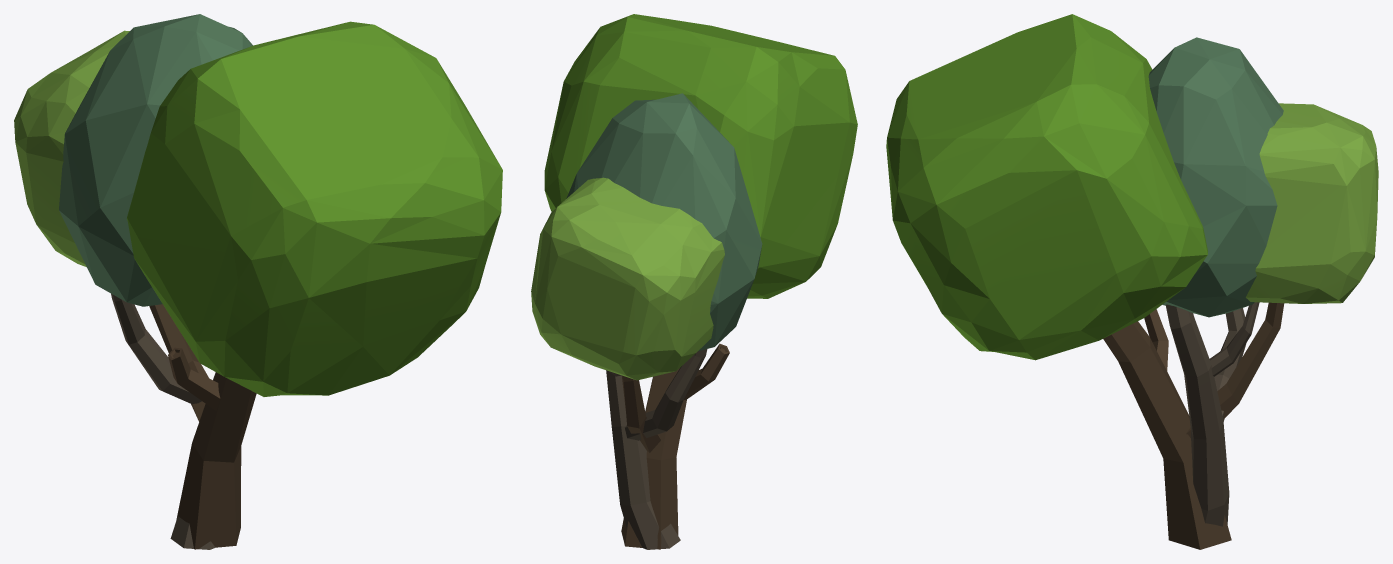
Rendered from Tree15.glb.
The picture shows the model from 3 angles, left to right: view 1: azimuth 30°, elevation 25°; view 2: azimuth 150°, elevation 25°; view 3: azimuth 270°, elevation 25°; orthographic projection. The views are drawn at different scales.
Parts seen in each view (by area): view 1: Tree_10, Tree; view 2: Tree_10, Tree; view 3: Tree_10, Tree.
Part boxes in pixels (left/top/right/bottom): Tree_10: left=14, top=21, right=502, bottom=549; Tree: left=59, top=14, right=252, bottom=549; Tree_10: left=531, top=14, right=857, bottom=549; Tree: left=566, top=93, right=762, bottom=549; Tree_10: left=886, top=14, right=1378, bottom=549; Tree: left=1148, top=37, right=1283, bottom=526.
Size of the model in its own units: 2.17 by 3.97 by 3.57.
Materials: 1 (1 with a texture image).
